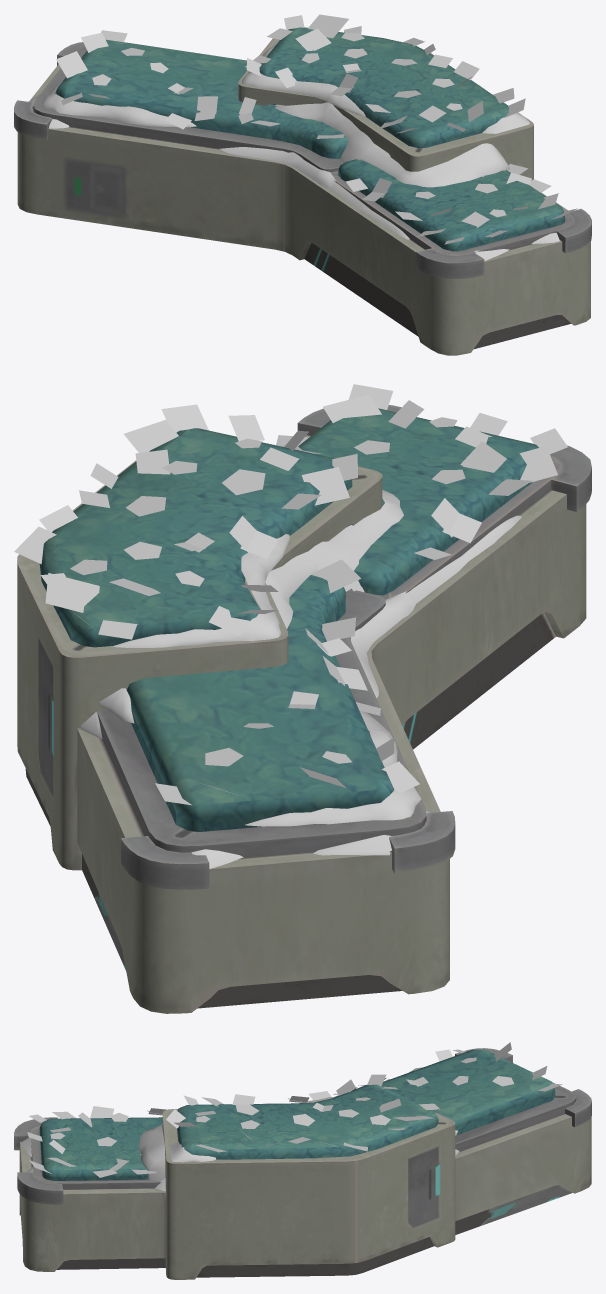
Rendered from pref_sm_city_parterre04_snow_lv3.fbx.
3 views of the same model, one above another, from view 1: azimuth 30°, elevation 25°; view 2: azimuth 150°, elevation 25°; view 3: azimuth 270°, elevation 25° (orthographic). The views are drawn at different scales.
Parts seen in each view (by area): view 1: sm_city_parterre04_snow_lv3, sm_city_parterre04c_snow_lv3, sm_city_parterre04b_snow_lv3; view 2: sm_city_parterre04_snow_lv3, sm_city_parterre04b_snow_lv3, sm_city_parterre04c_snow_lv3; view 3: sm_city_parterre04_snow_lv3, sm_city_parterre04b_snow_lv3, sm_city_parterre04c_snow_lv3.
Boxes of the visible parts, x1=… form: sm_city_parterre04_snow_lv3: x1=14, y1=27, x2=591, y2=355; sm_city_parterre04c_snow_lv3: x1=28, y1=44, x2=559, y2=260; sm_city_parterre04b_snow_lv3: x1=56, y1=14, x2=577, y2=244; sm_city_parterre04_snow_lv3: x1=17, y1=405, x2=591, y2=1013; sm_city_parterre04b_snow_lv3: x1=14, y1=384, x2=567, y2=805; sm_city_parterre04c_snow_lv3: x1=80, y1=490, x2=521, y2=868; sm_city_parterre04_snow_lv3: x1=14, y1=1048, x2=591, y2=1279; sm_city_parterre04b_snow_lv3: x1=27, y1=1042, x2=562, y2=1177; sm_city_parterre04c_snow_lv3: x1=21, y1=1067, x2=459, y2=1190.
Size of the model in its own units: 4.22 by 1.81 by 6.82.
